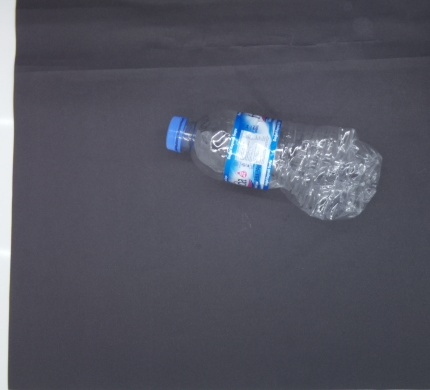plastic_bottle: (166, 111, 384, 221)
